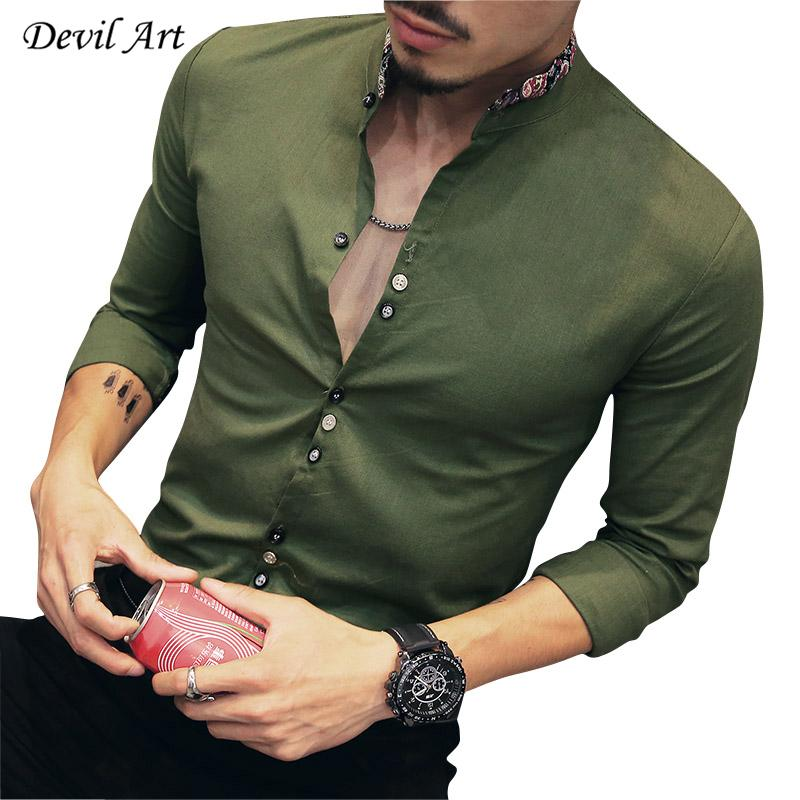Shirt: (46, 13, 773, 589)
